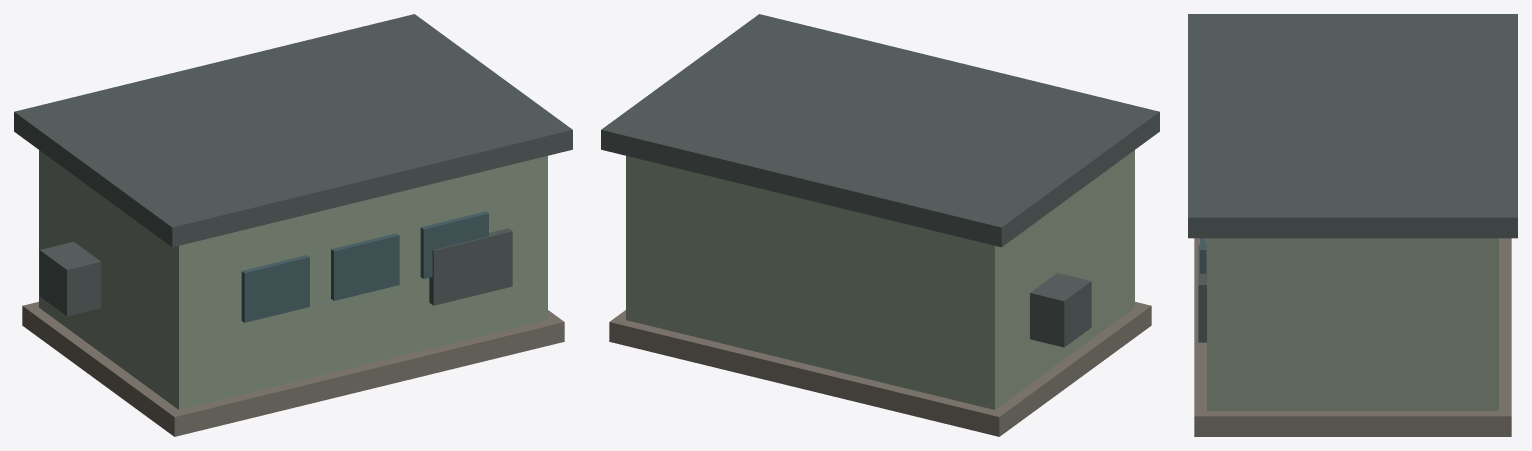
Rendered from SeedLaboratory.glb.
3 renders of one model, left to right at view 1: azimuth 30°, elevation 25°; view 2: azimuth 150°, elevation 25°; view 3: azimuth 270°, elevation 25°, orthographic. The views are drawn at different scales.
Visible parts, largest first — view 1: hand-pump-static-seed-lab-roof, hand-pump-static-seed-lab-wall, hand-pump-static-seed-lab-stone, hand-pump-static-seed-lab-glass; view 2: hand-pump-static-seed-lab-wall, hand-pump-static-seed-lab-roof, hand-pump-static-seed-lab-stone; view 3: hand-pump-static-seed-lab-roof, hand-pump-static-seed-lab-wall, hand-pump-static-seed-lab-stone.
Boxes of the visible parts, x1,y1,x2,y2 form: hand-pump-static-seed-lab-roof: (14,14,572,316); hand-pump-static-seed-lab-wall: (39,150,547,409); hand-pump-static-seed-lab-stone: (22,301,564,436); hand-pump-static-seed-lab-glass: (241,211,488,322); hand-pump-static-seed-lab-wall: (626,150,1134,409); hand-pump-static-seed-lab-roof: (601,14,1159,347); hand-pump-static-seed-lab-stone: (609,301,1151,436); hand-pump-static-seed-lab-roof: (1188,14,1517,342); hand-pump-static-seed-lab-wall: (1207,238,1498,410); hand-pump-static-seed-lab-stone: (1194,238,1511,436).
Size of the model in its own units: 3.98 by 1.93 by 2.6.
